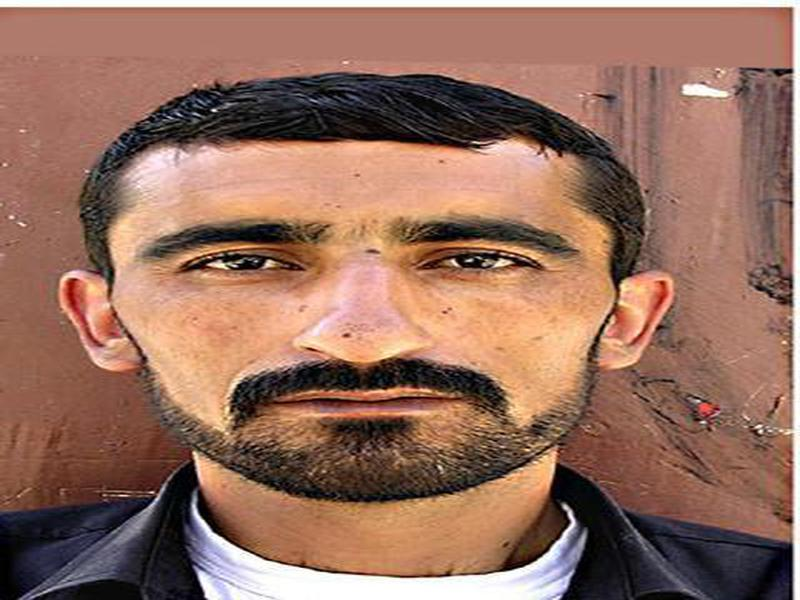without_mask: (114, 144, 608, 504)
